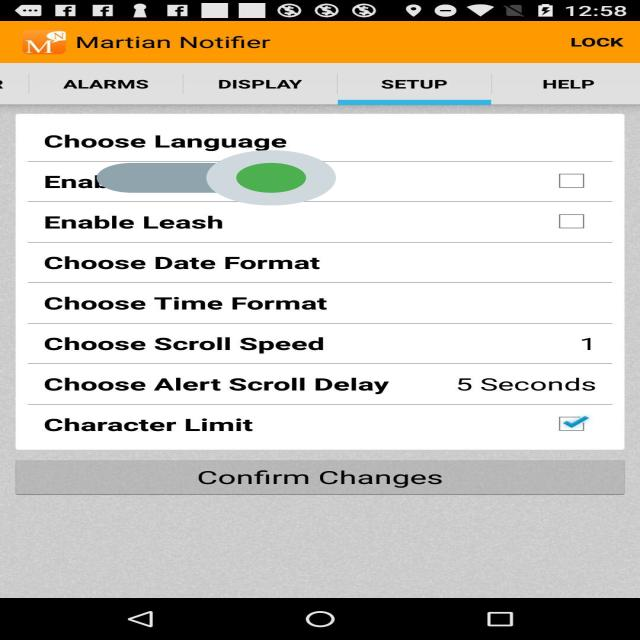social proof: (97, 127, 336, 229)
